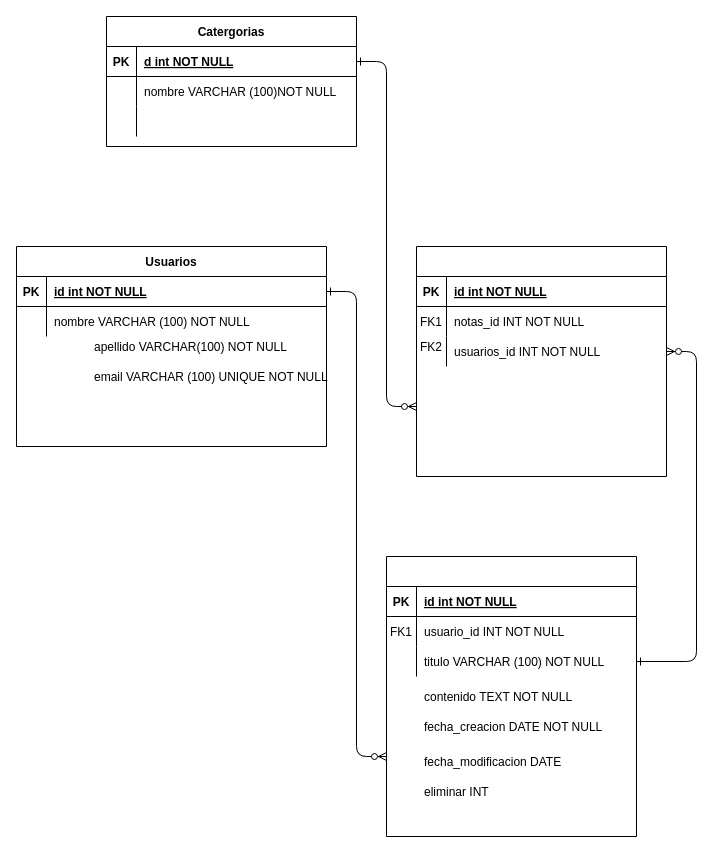
This 713x853 diagram has some shape labels left out. The box of each missing label's shape, as (x1, y1, x2, y2) in pixels:
categorias_notas: (416, 246, 666, 476)
notas: (386, 556, 636, 836)
